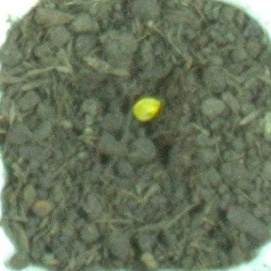chilli seed: (130, 95, 163, 123)
